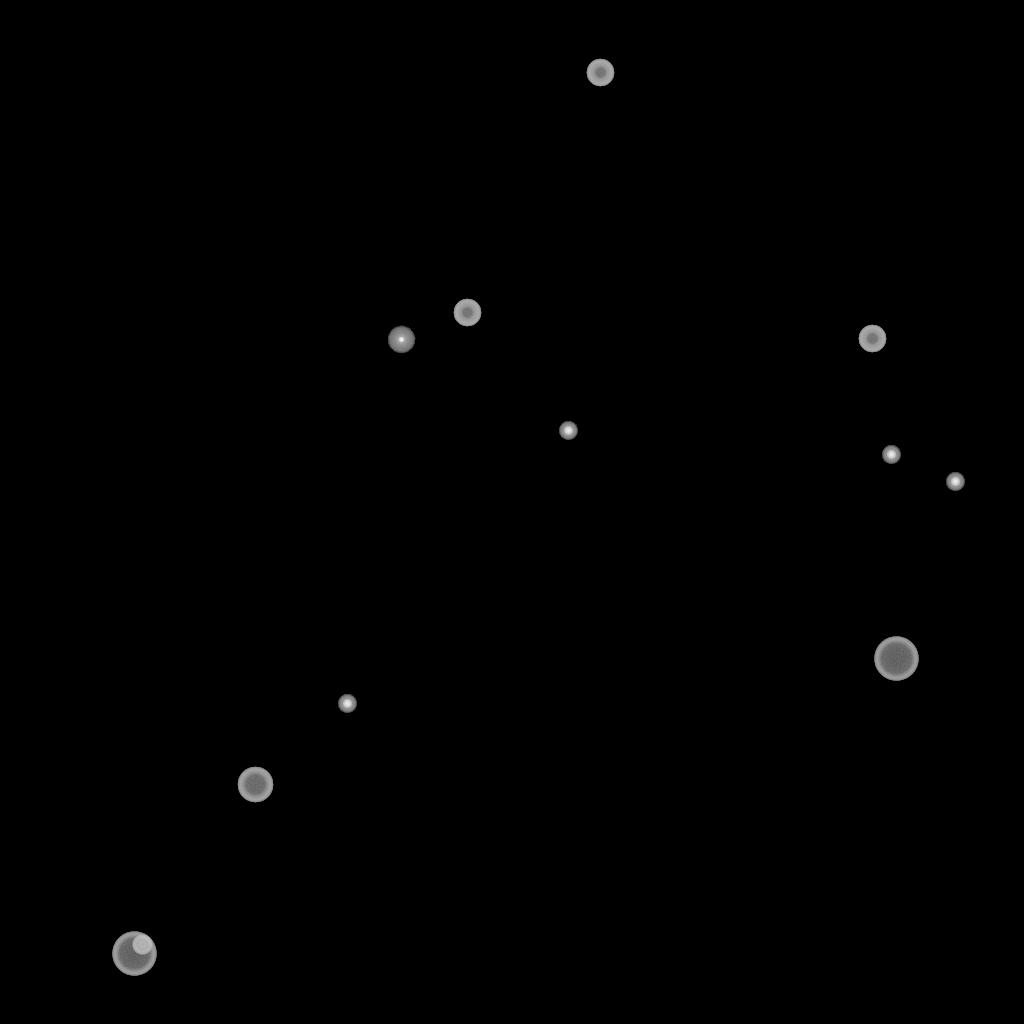depth:-10: (387, 326, 415, 354)
depth:-20: (559, 422, 577, 440), (946, 473, 964, 491), (882, 446, 900, 464), (338, 695, 356, 713)
depth:-40: (132, 935, 152, 955)
depth:-50: (858, 325, 886, 353), (453, 299, 481, 327), (586, 59, 614, 87)
depth:-60: (237, 767, 273, 803)
depth:-70: (874, 637, 918, 681), (112, 932, 156, 976)
